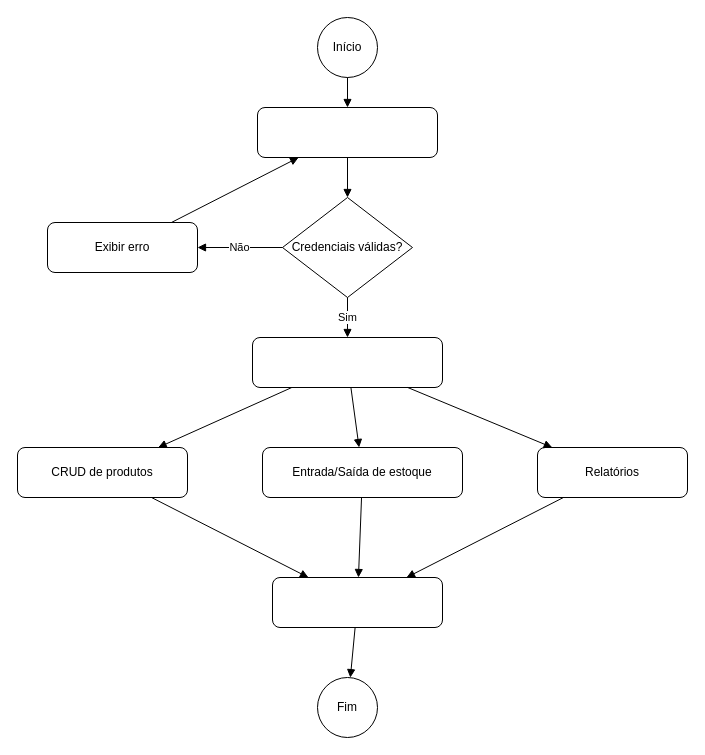
Image size: 705x755. Some labels were removed from this diagram. The shapes that lost their labels are listed below. From the top down, each one's centre as x and y in pixels, then its label:
the point at 347,132: Usuário informa login
the point at 347,362: Exibir menu principal
the point at 357,602: Logout
